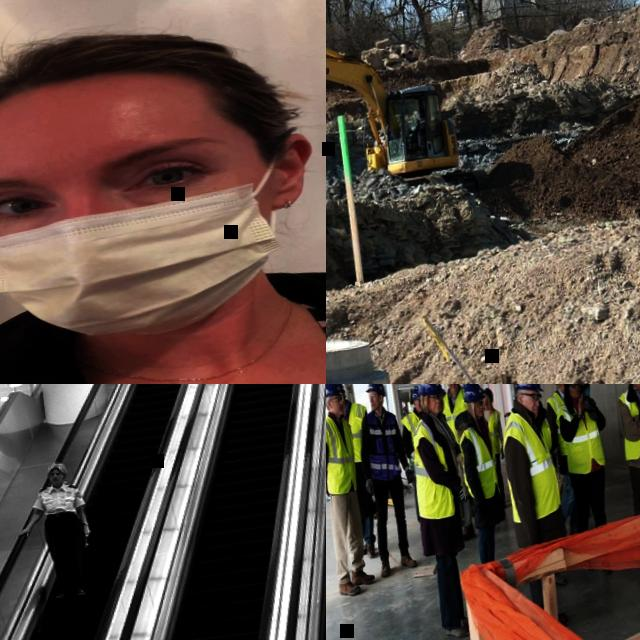Hardhat: (463, 384, 486, 402), (416, 384, 445, 396), (514, 384, 544, 394), (364, 384, 385, 397), (326, 384, 343, 397), (482, 386, 494, 402), (410, 386, 421, 400), (332, 384, 342, 389)
Mask: (0, 190, 287, 349)
NO-Hardhat: (0, 18, 279, 142), (47, 462, 67, 474)
NO-Mask: (528, 402, 541, 418), (49, 473, 64, 484), (430, 402, 443, 414), (572, 388, 583, 398), (334, 404, 344, 414), (371, 401, 381, 410), (449, 384, 458, 392), (476, 408, 484, 416), (416, 403, 423, 412), (484, 398, 488, 404), (636, 384, 640, 389)
NO-Safety Vest: (39, 483, 77, 516)
Person: (0, 10, 326, 384), (491, 384, 583, 633), (400, 384, 487, 640), (349, 384, 428, 578), (551, 384, 624, 576), (12, 458, 101, 604), (451, 384, 515, 562), (326, 384, 379, 597), (331, 384, 386, 560), (435, 384, 484, 542), (540, 384, 588, 533), (396, 386, 436, 524), (481, 384, 512, 508), (612, 384, 640, 514), (537, 401, 555, 453), (461, 384, 474, 395)
Safety Vest: (497, 406, 565, 524), (408, 416, 458, 522), (554, 398, 609, 477), (458, 424, 504, 501), (365, 407, 405, 482), (326, 412, 359, 495), (345, 399, 373, 462), (441, 386, 471, 444), (399, 410, 427, 471), (617, 386, 640, 460), (546, 391, 573, 454), (486, 408, 507, 456)
vehicle: (326, 0, 492, 213)
